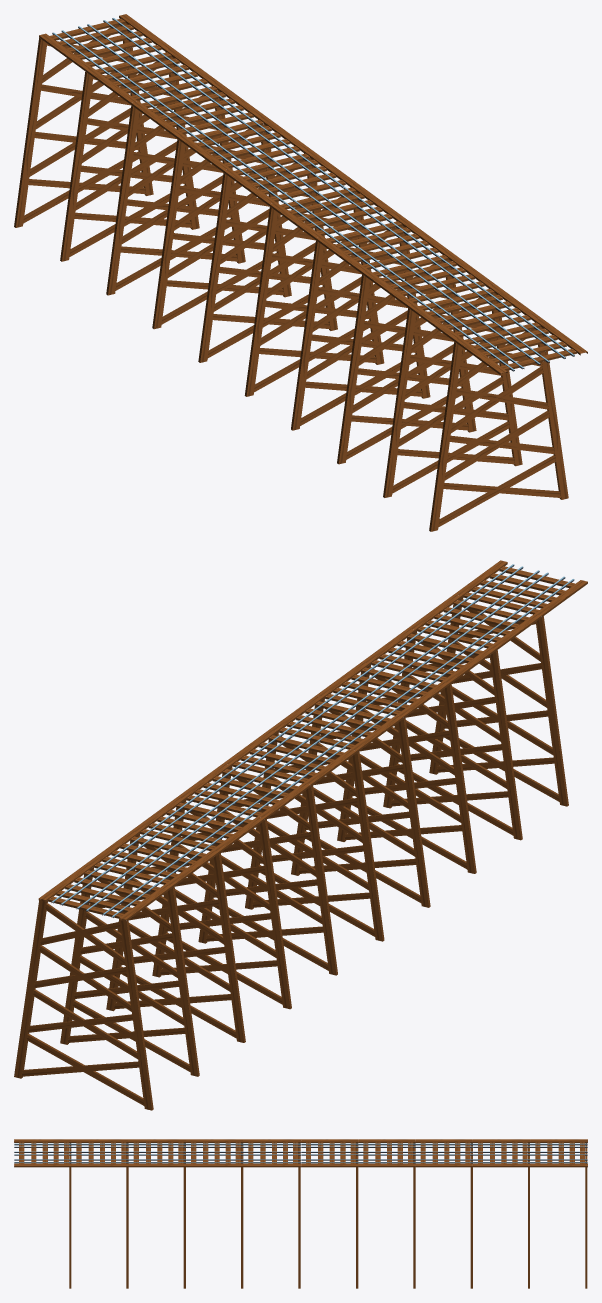
The model's file is caudai.fbx.
3 views of the same model, one above another, from view 1: azimuth 30°, elevation 25°; view 2: azimuth 150°, elevation 25°; view 3: azimuth 270°, elevation 25° (orthographic). The views are drawn at different scales.
Visible parts, largest first — view 1: pCube325; view 2: pCube325; view 3: pCube325.
Part boxes in pixels (x1=…): pCube325: x1=14, y1=14, x2=587, y2=531; pCube325: x1=14, y1=560, x2=587, y2=1110; pCube325: x1=14, y1=1139, x2=587, y2=1288.
Size of the model in its own units: 44.84 by 57.48 by 260.
